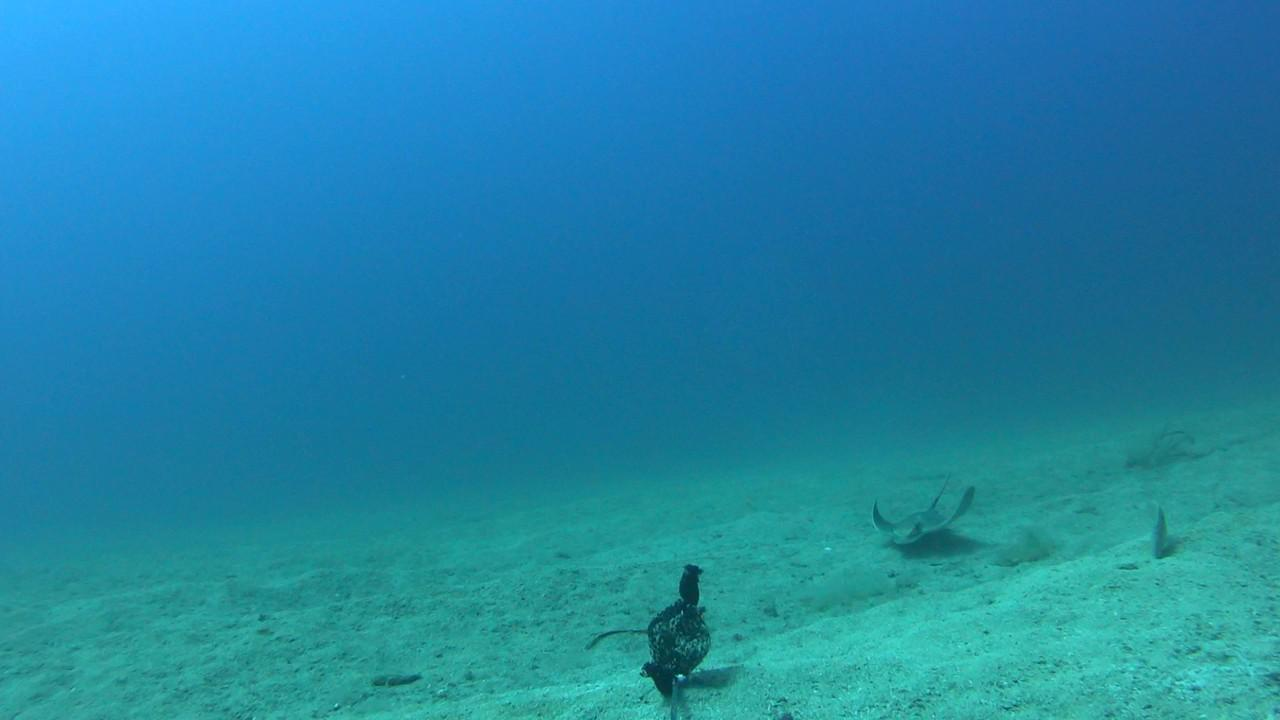myliobatis: (868, 463, 982, 547)
